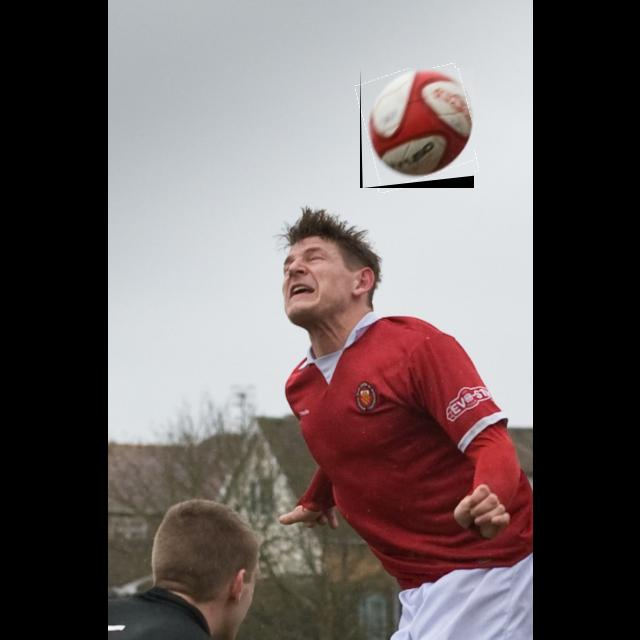Football: (360, 68, 474, 188)
